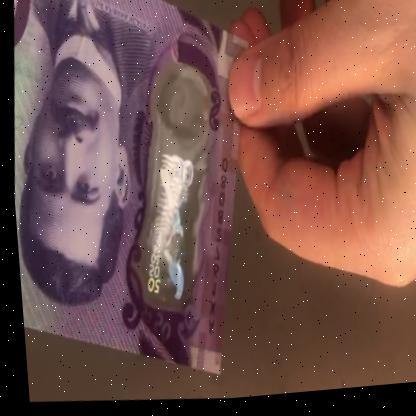50F: (126, 83, 214, 314)
